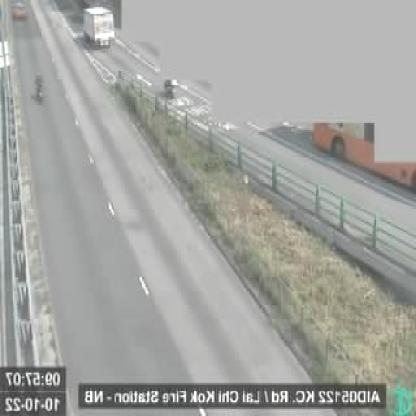Car: (12, 0, 29, 18)
Truck: (83, 2, 115, 49)
